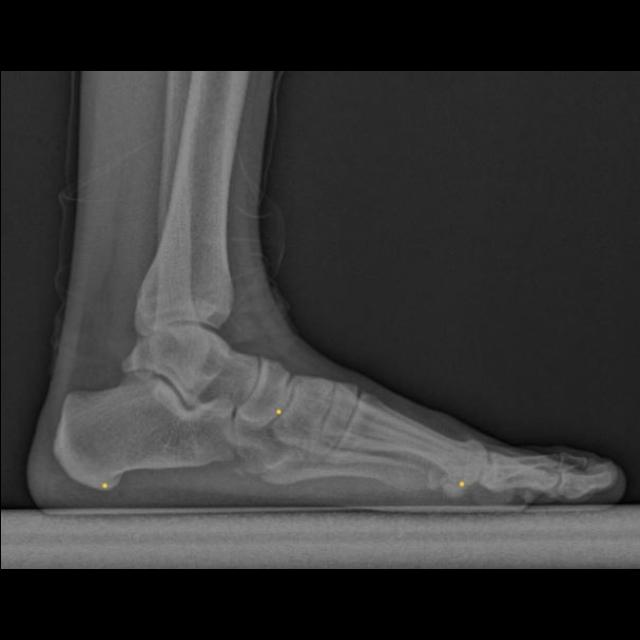a: (54, 371, 234, 489)
b: (235, 358, 290, 429)
c: (337, 394, 487, 500)
